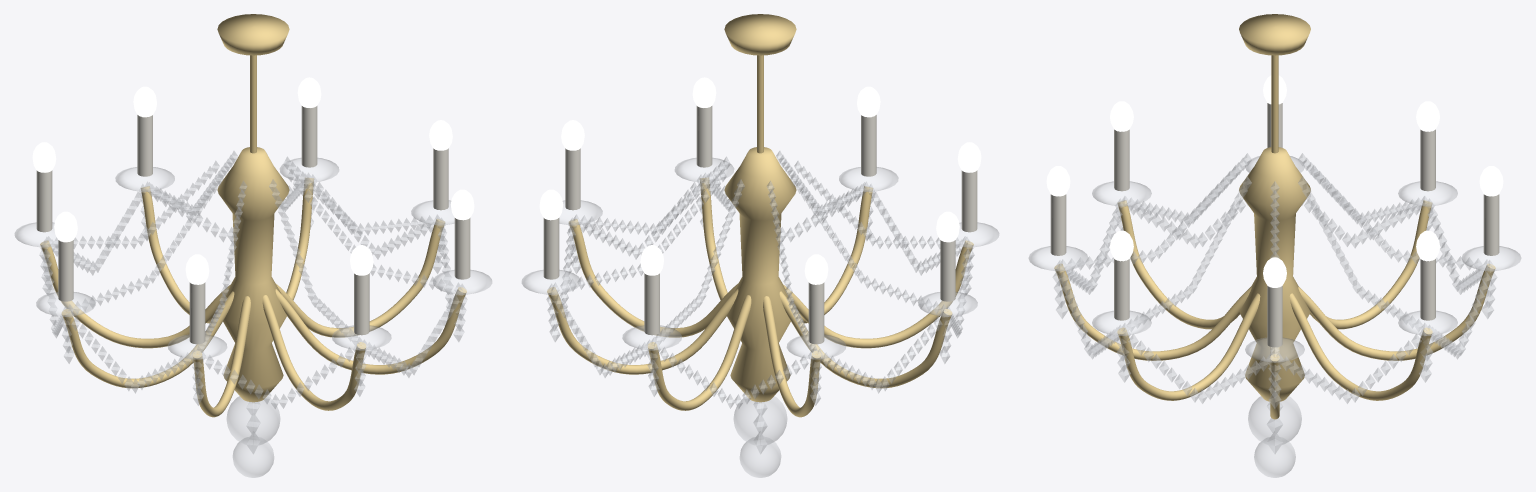
Rendered from chandelier_large.glb.
The picture shows the model from 3 angles, left to right: view 1: azimuth 30°, elevation 25°; view 2: azimuth 150°, elevation 25°; view 3: azimuth 270°, elevation 25°; orthographic projection.
Visible parts, largest first — view 1: crystals, stem, arm7, canopy, arm4, arm3, arm0, arm6, finial, arm5, arm2, ball (+26 smaller); view 2: crystals, stem, arm1, canopy, arm4, arm5, arm0, arm2, finial, arm3, arm6, ball (+26 smaller); view 3: crystals, stem, arm2, arm6, canopy, arm1, arm7, finial, arm3, arm5, ball, bobeche2 (+22 smaller).
Part boxes in pixels (left/top/right/bottom): crystals: left=39, top=151, right=467, bottom=408; stem: left=217, top=147, right=289, bottom=402; arm7: left=275, top=287, right=466, bottom=374; canopy: left=217, top=14, right=289, bottom=55; arm4: left=61, top=291, right=234, bottom=388; arm3: left=40, top=240, right=230, bottom=348; arm0: left=275, top=219, right=444, bottom=337; arm6: left=262, top=295, right=366, bottom=410; finial: left=226, top=396, right=280, bottom=445; arm5: left=192, top=296, right=250, bottom=417; arm2: left=141, top=186, right=217, bottom=323; ball: left=233, top=437, right=273, bottom=477; crystals: left=546, top=151, right=974, bottom=408; stem: left=724, top=147, right=796, bottom=402; arm1: left=547, top=287, right=738, bottom=374; canopy: left=724, top=14, right=796, bottom=55; arm4: left=779, top=291, right=952, bottom=388; arm5: left=783, top=240, right=973, bottom=348; arm0: left=569, top=219, right=738, bottom=337; arm2: left=647, top=295, right=751, bottom=410; finial: left=733, top=396, right=787, bottom=445; arm3: left=763, top=296, right=821, bottom=417; arm6: left=796, top=186, right=872, bottom=323; ball: left=740, top=437, right=780, bottom=477; crystals: left=1052, top=153, right=1497, bottom=408; stem: left=1239, top=147, right=1310, bottom=401; arm2: left=1298, top=264, right=1495, bottom=360; arm6: left=1054, top=264, right=1251, bottom=360; canopy: left=1239, top=14, right=1310, bottom=55; arm1: left=1289, top=293, right=1432, bottom=400; arm7: left=1117, top=293, right=1260, bottom=400; finial: left=1248, top=396, right=1301, bottom=445; arm3: left=1299, top=200, right=1432, bottom=329; arm5: left=1117, top=200, right=1250, bottom=329; ball: left=1254, top=437, right=1295, bottom=477; bobeche2: left=1461, top=246, right=1521, bottom=270.
Bounding box in the file's own units: 0.82 × 0.825 × 0.82.
